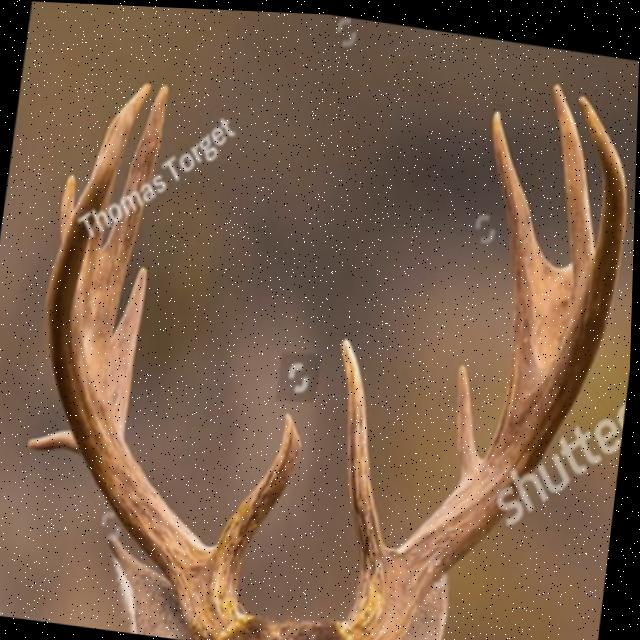L-F: (340, 89, 631, 640)
L-G1: (340, 333, 398, 583)
L-G2: (455, 356, 485, 480)
L-G3: (489, 103, 574, 428)
R-F: (45, 96, 255, 640)
R-G1: (210, 406, 305, 588)
